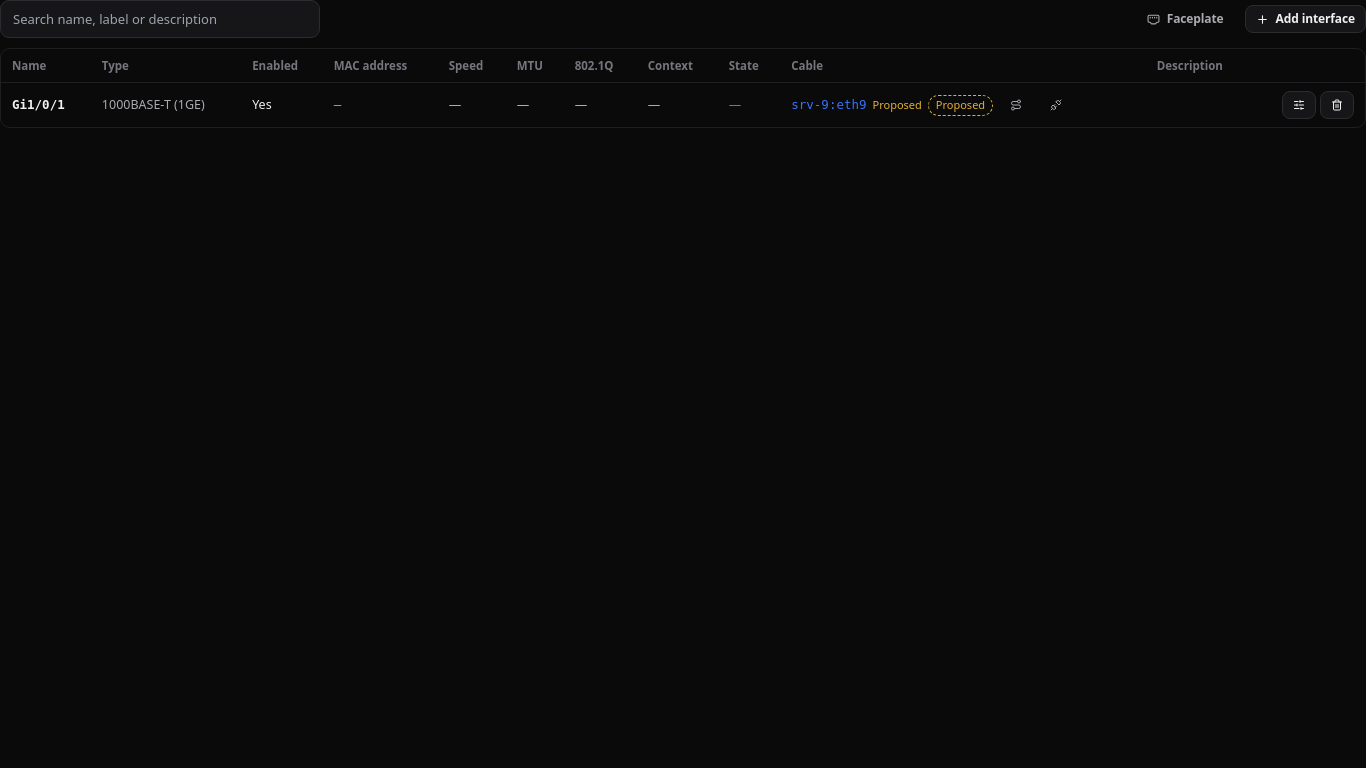
Trace from the Cable column › a cabled interface offers Trace, which opens the trace view; a proposed cable says so
The width and height of the screenshot is (1366, 768).
Click the button named "Trace Gi1/0/1" at (1016, 105), box [999, 91, 1033, 119]
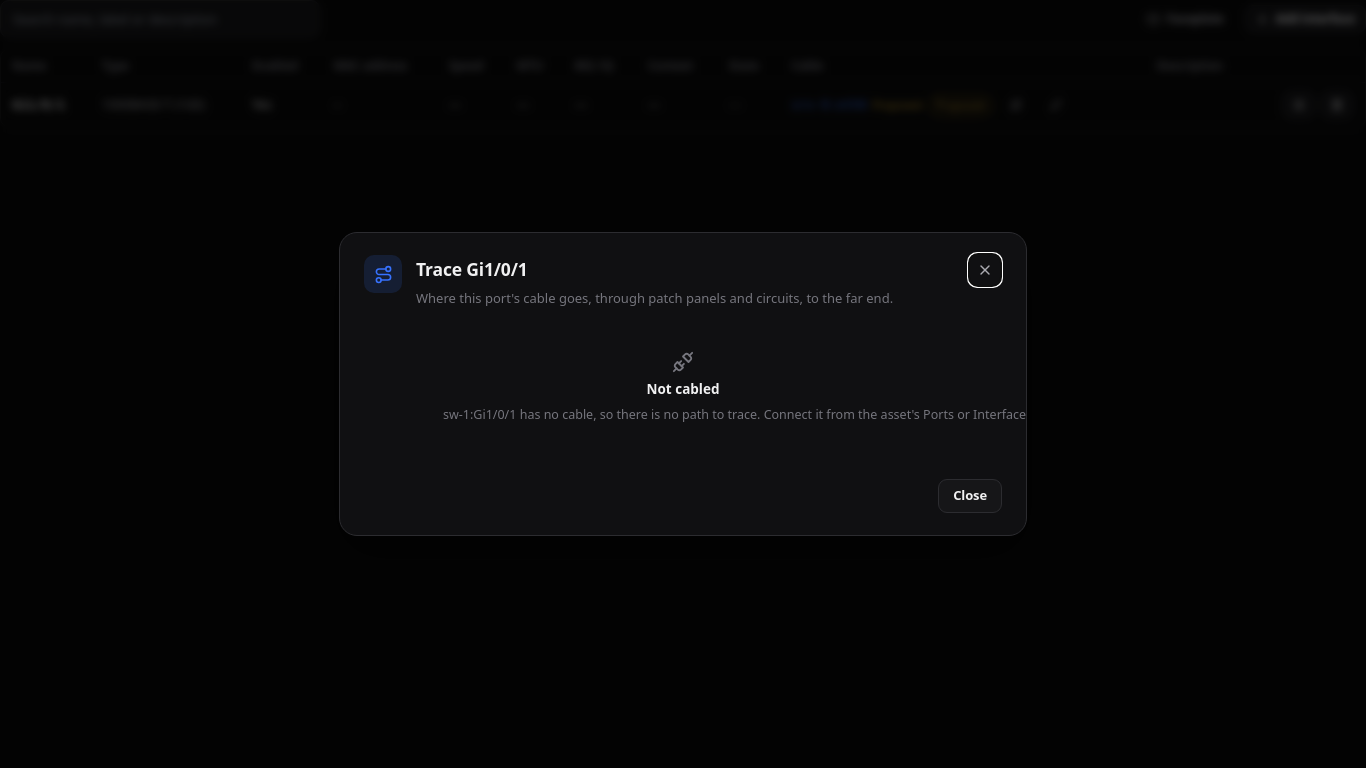
Result: the text "Trace Gi1/0/1" is shown at [416, 257, 528, 281]
Result: the text "Not cabled" is shown at [646, 379, 720, 399]
